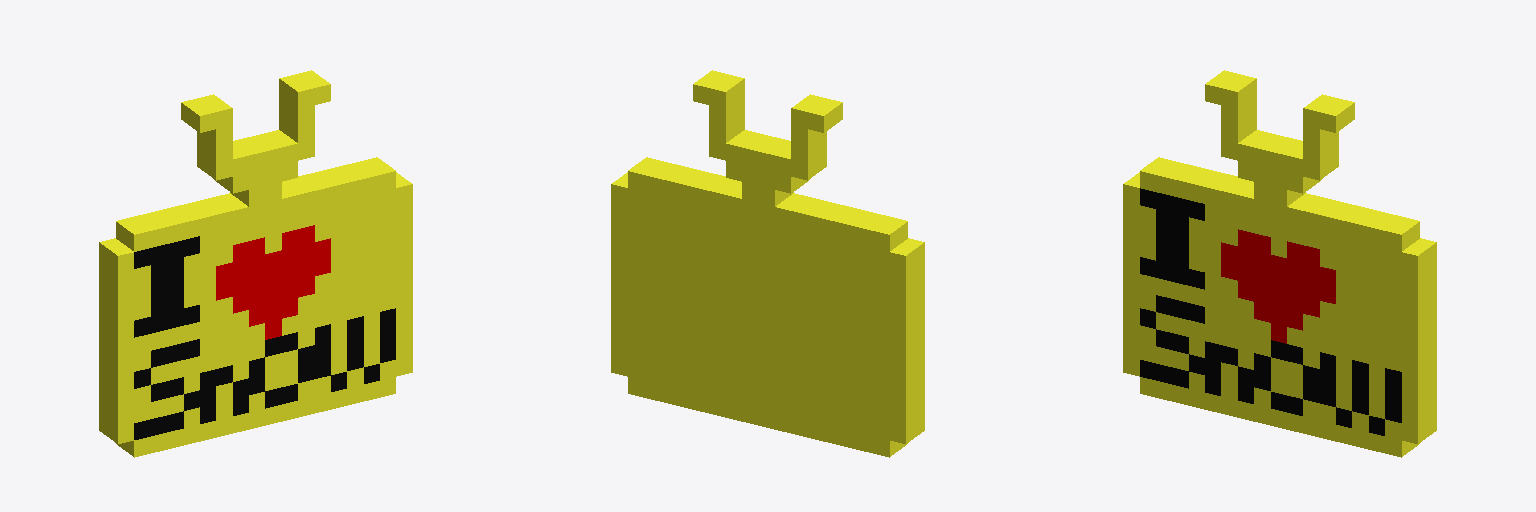
The picture shows the model from 3 angles: view 1: azimuth 30°, elevation 25°; view 2: azimuth 150°, elevation 25°; view 3: azimuth 330°, elevation 25°; orthographic projection.
Parts seen in each view (by area): view 1: object 1; view 2: object 1; view 3: object 1.
Boxes of the visible parts, box(x1,y1,x2,y2) form: object 1: box(99, 70, 412, 457); object 1: box(611, 70, 924, 457); object 1: box(1123, 70, 1436, 457).
Size of the model in its own units: 1.8 by 1.9 by 0.2.
1 materials, 1 textured.